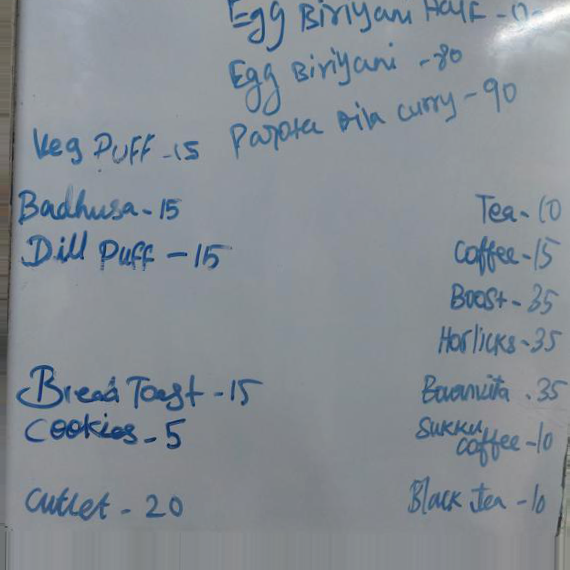Tea - 10: (471, 187, 569, 226)
badhusa -15: (15, 183, 196, 229)
black tea - 10: (406, 474, 552, 525)
boost - 35: (449, 281, 570, 321)
bournvita - 35: (413, 365, 570, 413)
bread toast - 15: (11, 358, 267, 413)
coffee - 15: (451, 233, 570, 274)
cookies - 5: (24, 416, 193, 454)
cutlet - 20: (23, 478, 199, 527)
dill puff - 15: (18, 231, 237, 279)
egg briyani - 80: (223, 44, 406, 96)
egg briyani half -50: (224, 1, 554, 35)
horlicks - 35: (432, 321, 570, 361)
parotta - 90: (224, 98, 462, 156)
sukku coffee - 10: (412, 414, 560, 469)
veg puff - 15: (29, 127, 207, 170)
